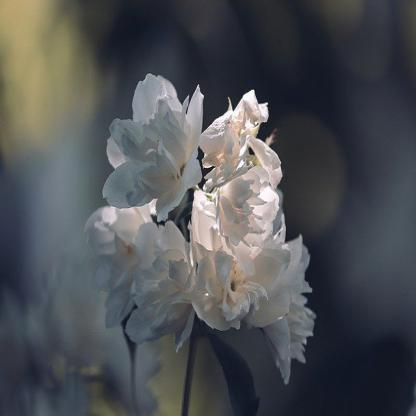Melati: (61, 81, 344, 382)
